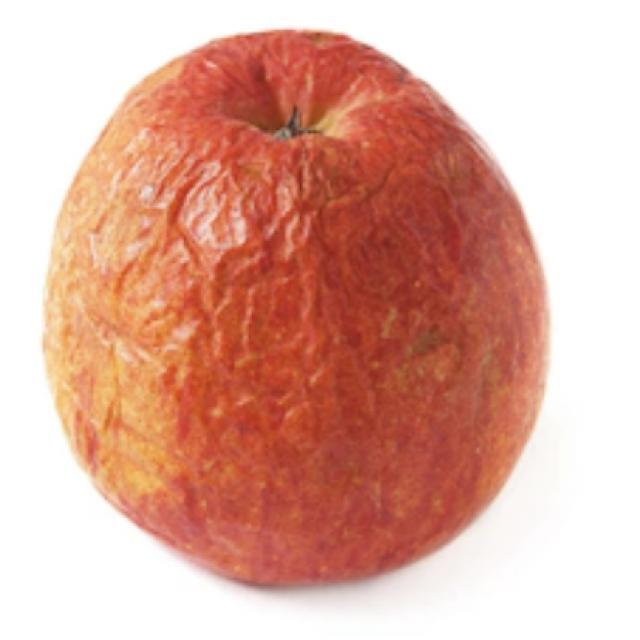Rotten: (62, 44, 553, 604)
